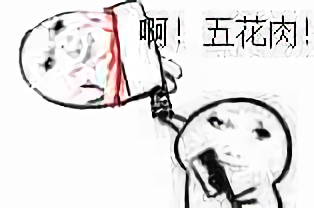dragon: (206, 113, 275, 172)
